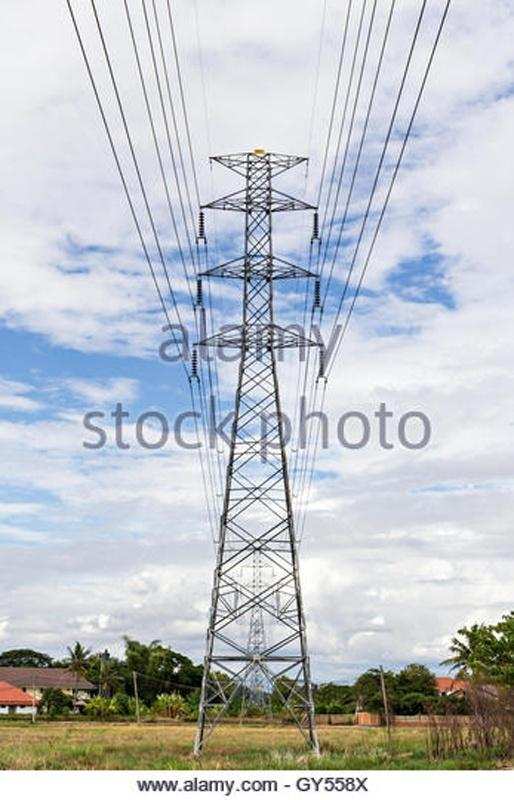power_tower: (155, 141, 354, 758)
